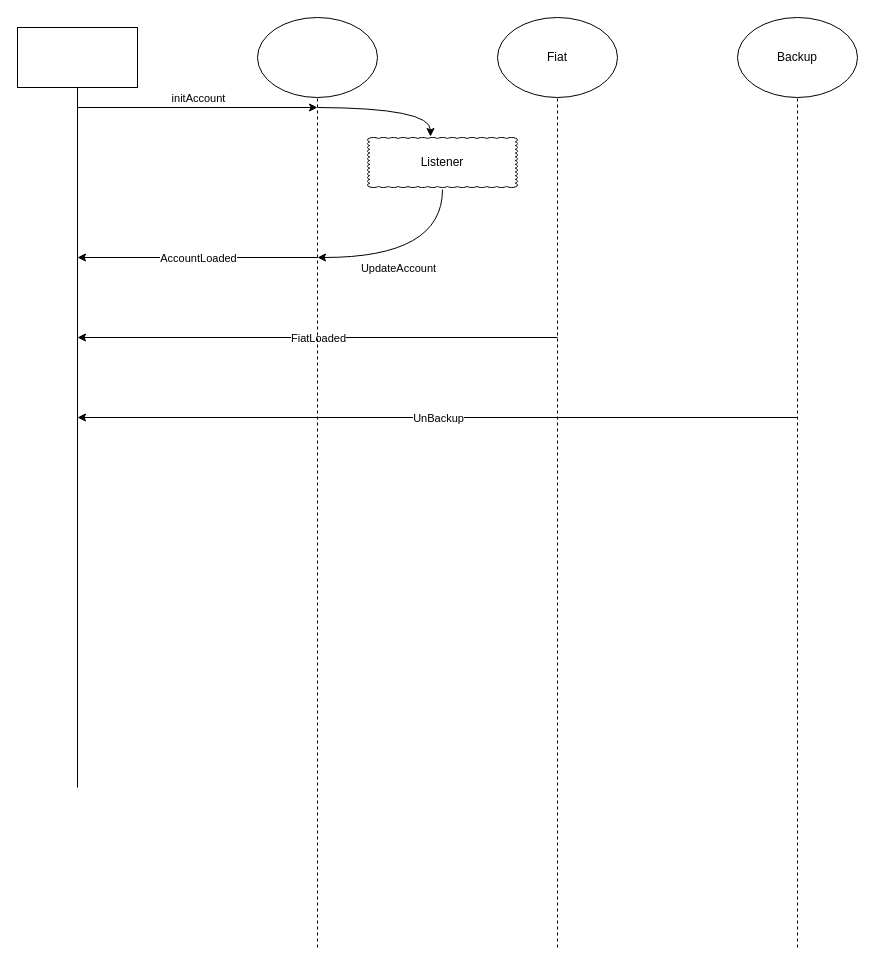
Some shapes in this 875 by 966 pixel diagram are drawn without their labels. Here are the shapes that lost their labels. From the top down, the centre of each, then its label:
At (77,57): "AccountScreen".
At (317,57): "Account".
